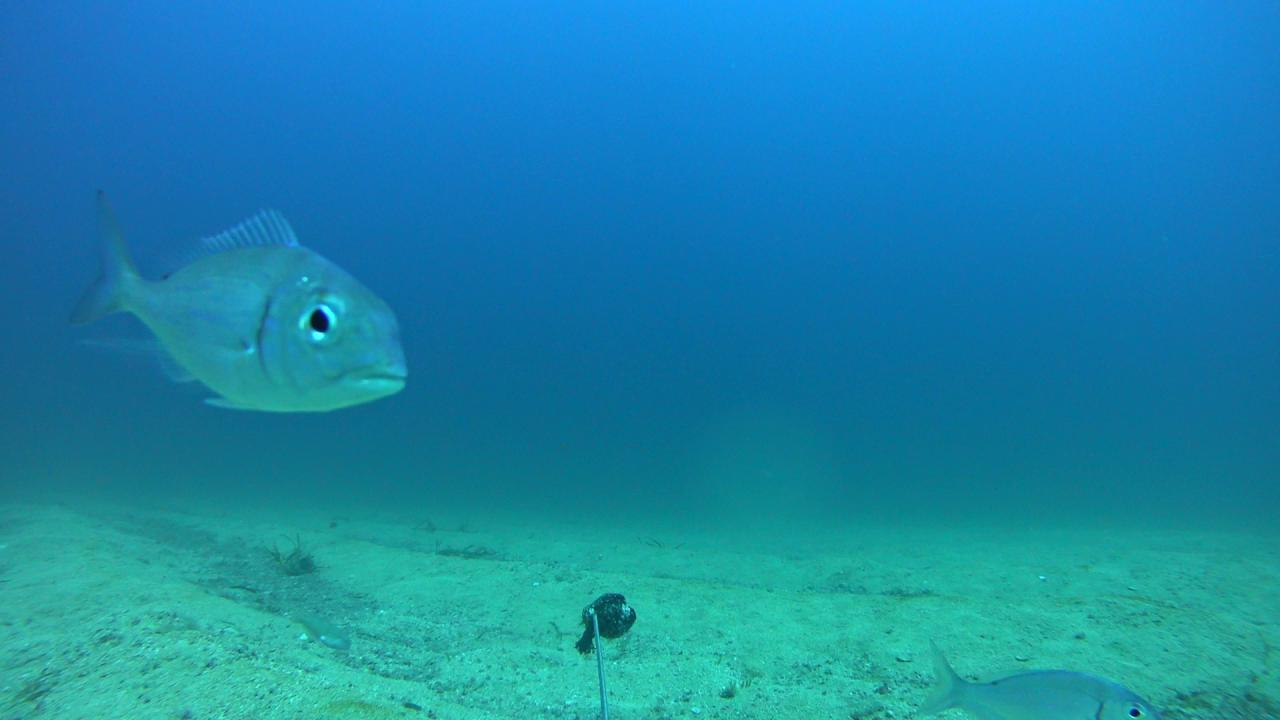pagellus: (72, 190, 411, 415)
